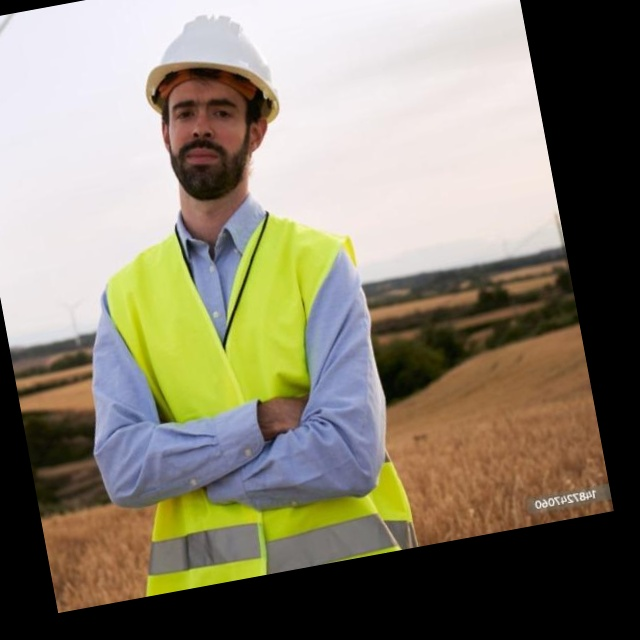Con_Casco: (129, 4, 298, 204)
Con_Chaleco: (87, 199, 406, 596)
